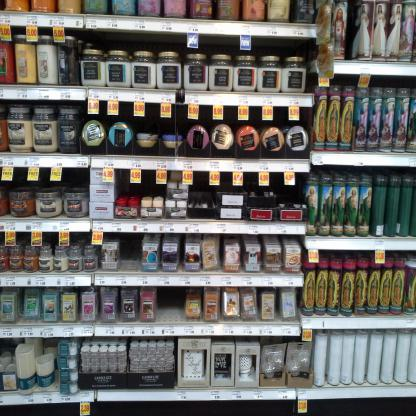Void: (159, 289, 185, 318), (122, 235, 139, 268), (119, 184, 163, 193), (67, 173, 87, 182)
